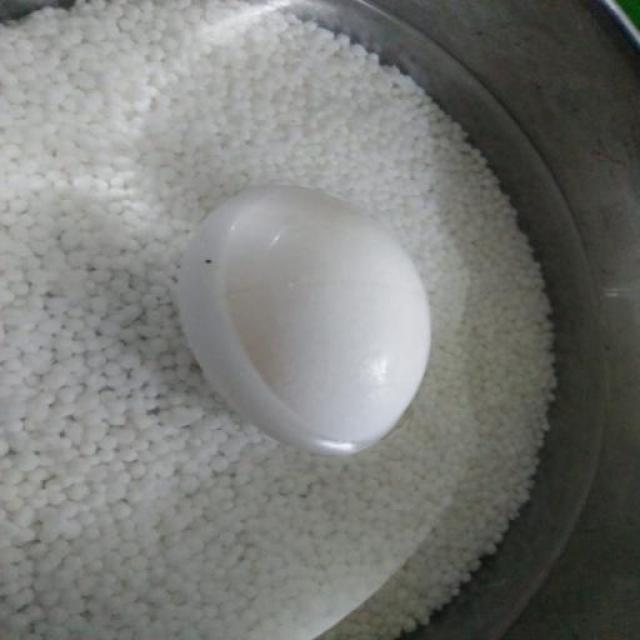telur: (177, 183, 434, 455)
